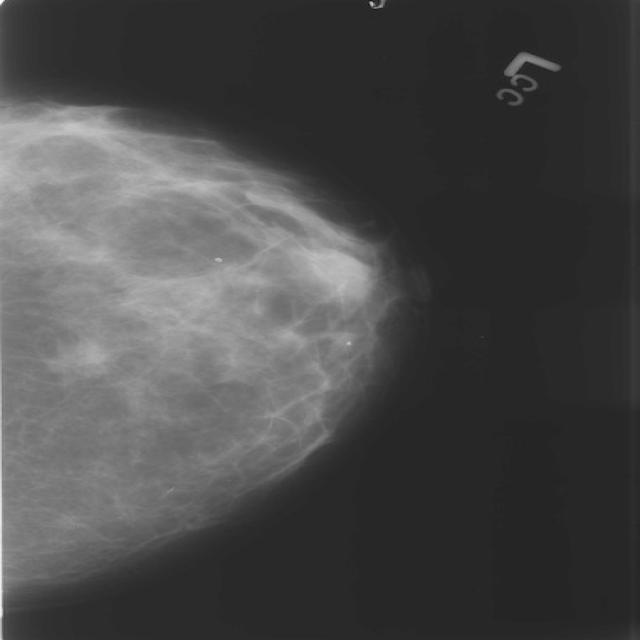tumour: (48, 340, 108, 379)
